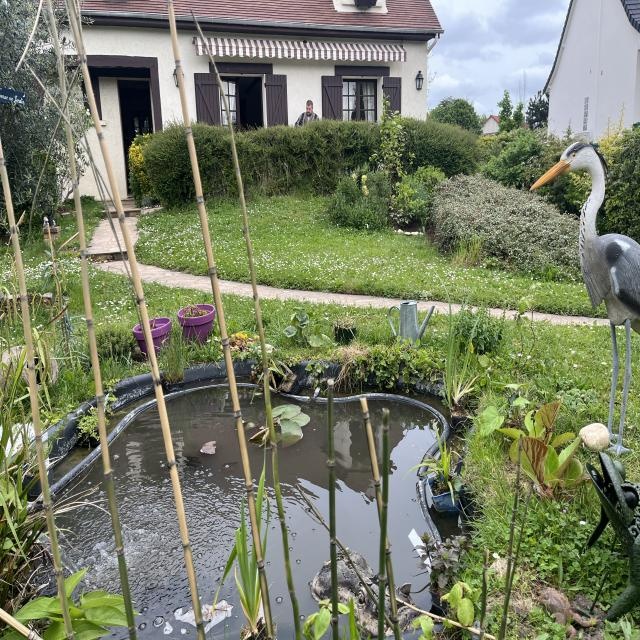Heron: (522, 123, 640, 456)
